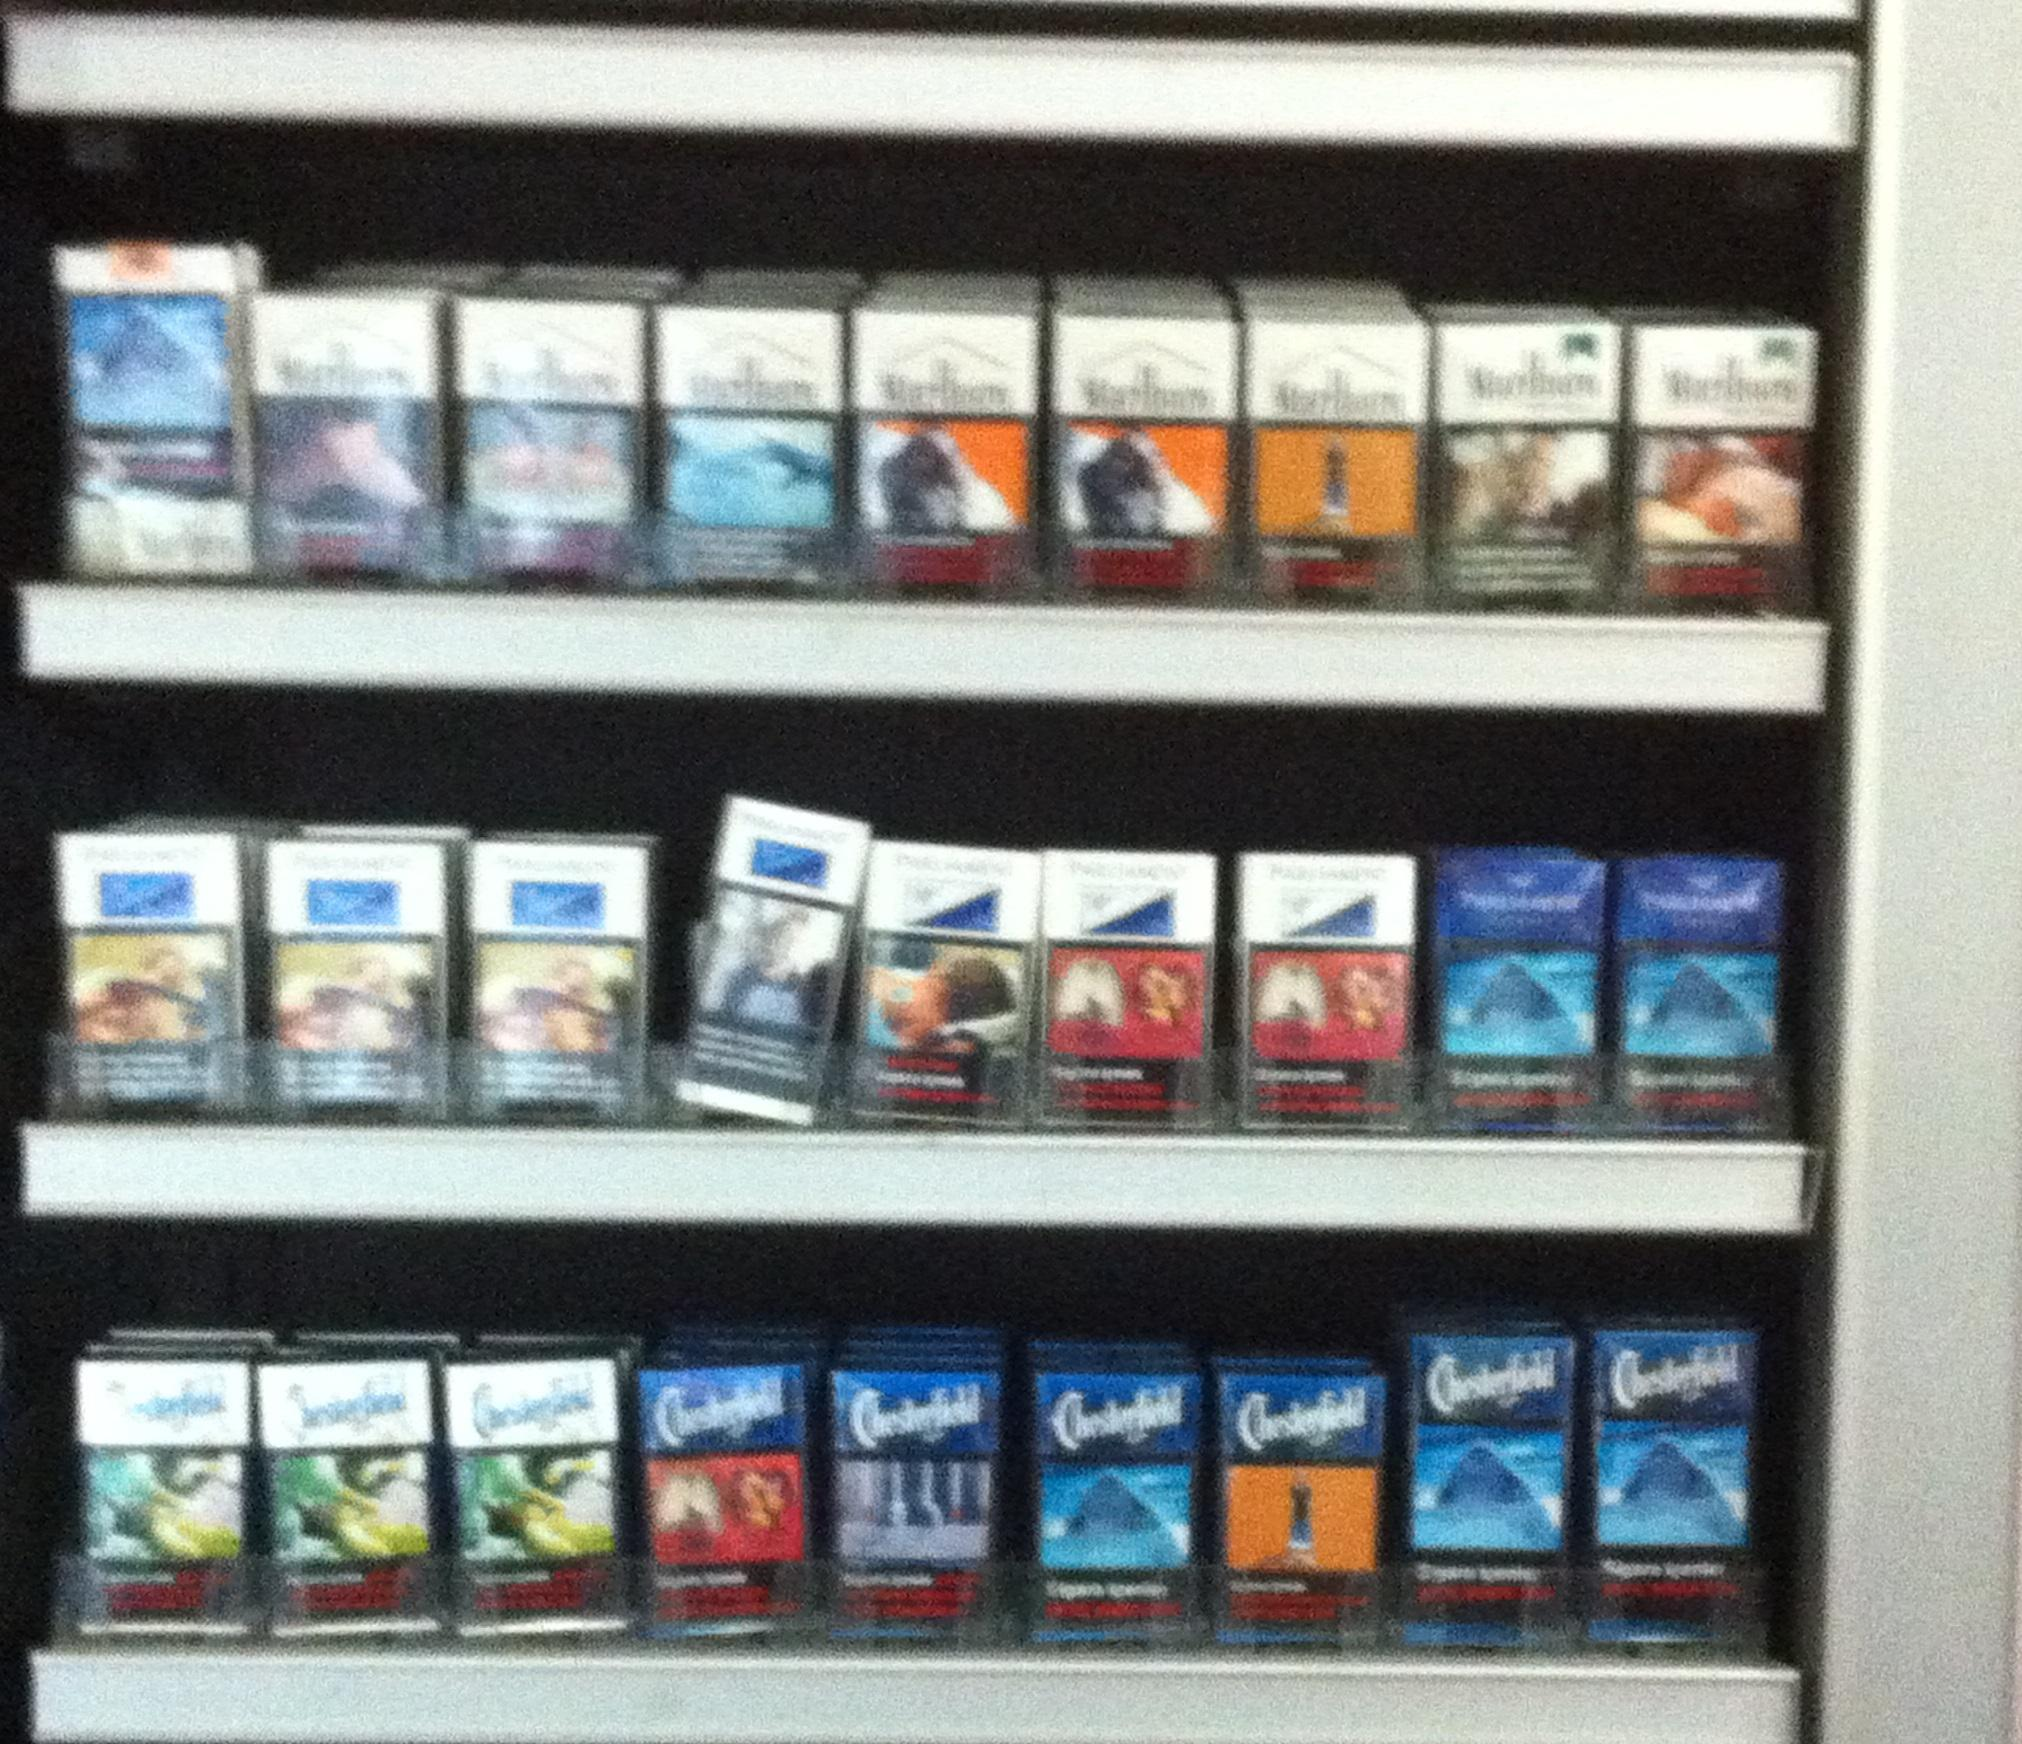product: (241, 265, 461, 605), (433, 265, 653, 605), (57, 237, 277, 576), (672, 796, 868, 1137), (1033, 277, 1241, 597), (1233, 286, 1441, 605), (1441, 289, 1649, 609), (1616, 286, 1824, 605), (645, 280, 853, 600), (841, 286, 1049, 605), (261, 808, 469, 1128), (457, 820, 665, 1140), (48, 801, 256, 1121), (1386, 1333, 1582, 1625), (1420, 853, 1616, 1145), (1573, 1324, 1769, 1617), (1604, 841, 1800, 1133), (256, 1348, 452, 1641), (57, 1345, 253, 1637), (1028, 1354, 1224, 1644), (1033, 850, 1229, 1140), (1173, 1354, 1369, 1644), (1221, 838, 1417, 1128), (445, 1342, 641, 1632), (805, 1354, 1001, 1644), (626, 1348, 820, 1641), (856, 832, 1037, 1145)
